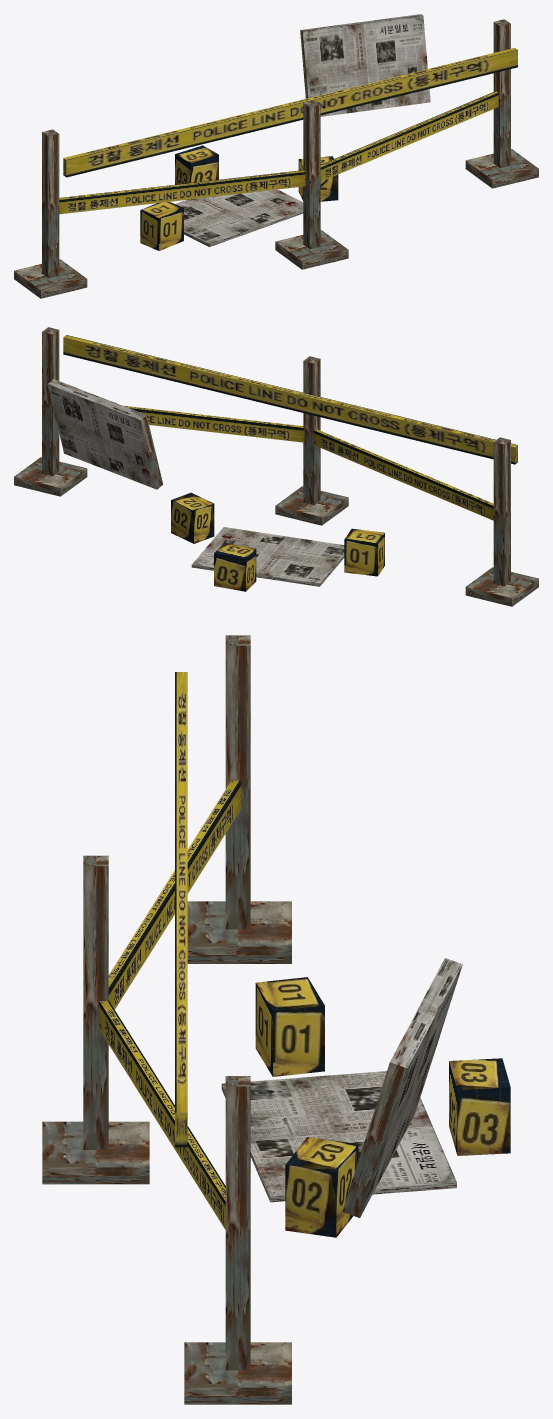
File: sf_pump_policeline_scene.glb
3 views of the same model, one above another, from view 1: azimuth 30°, elevation 25°; view 2: azimuth 150°, elevation 25°; view 3: azimuth 270°, elevation 25° (orthographic). The views are drawn at different scales.
Parts seen in each view (by area): view 1: PumpRoomPoliceLineAndNewspaper_Root, PumpRoomPoliceLineAndNewspaper_AnimPart; view 2: PumpRoomPoliceLineAndNewspaper_Root, PumpRoomPoliceLineAndNewspaper_AnimPart; view 3: PumpRoomPoliceLineAndNewspaper_Root, PumpRoomPoliceLineAndNewspaper_AnimPart.
Boxes of the visible parts, x1,y1,x2,y2 form: PumpRoomPoliceLineAndNewspaper_Root: (14, 14, 538, 298); PumpRoomPoliceLineAndNewspaper_AnimPart: (63, 48, 517, 177); PumpRoomPoliceLineAndNewspaper_Root: (14, 327, 538, 606); PumpRoomPoliceLineAndNewspaper_AnimPart: (63, 335, 517, 464); PumpRoomPoliceLineAndNewspaper_Root: (42, 635, 510, 1404); PumpRoomPoliceLineAndNewspaper_AnimPart: (175, 672, 187, 1147).
Size of the model in its own units: 3.64 by 1.05 by 1.48.
1 material, 1 textured.
